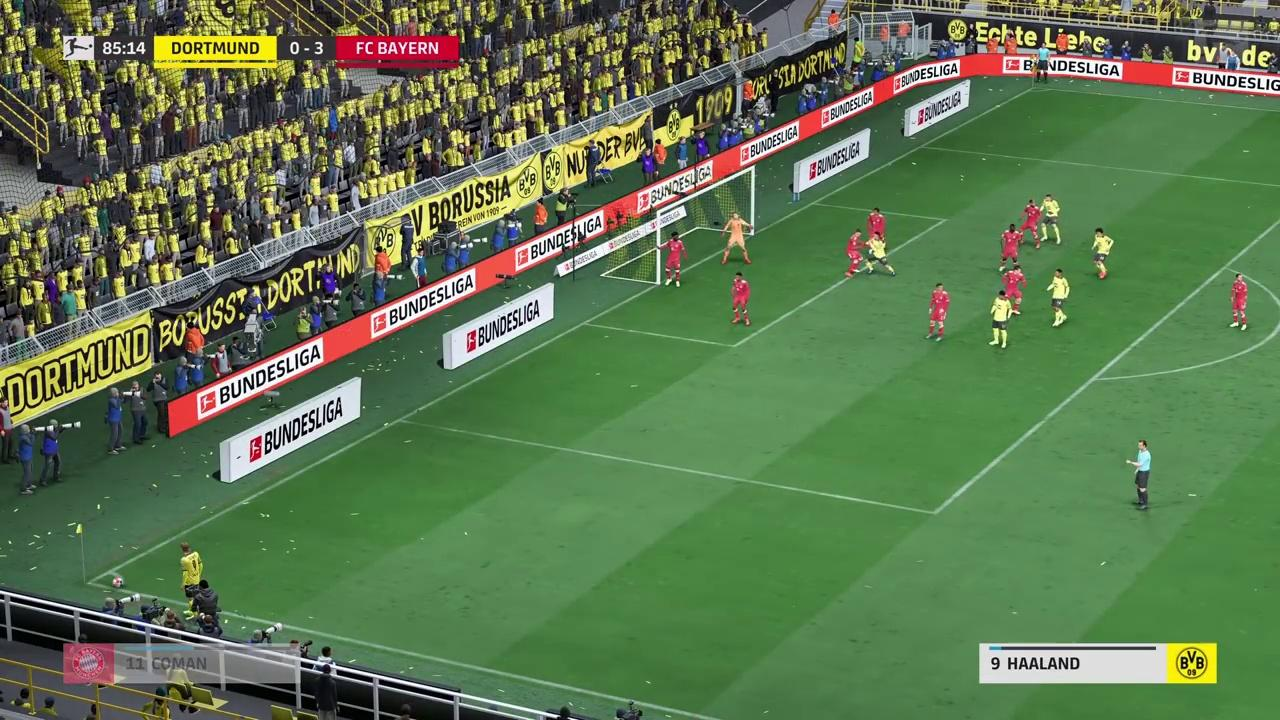scoreboard: (156, 38, 460, 67)
timestamp: (97, 36, 151, 60)
